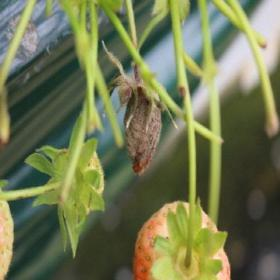Gray Mold: (108, 58, 162, 176)
